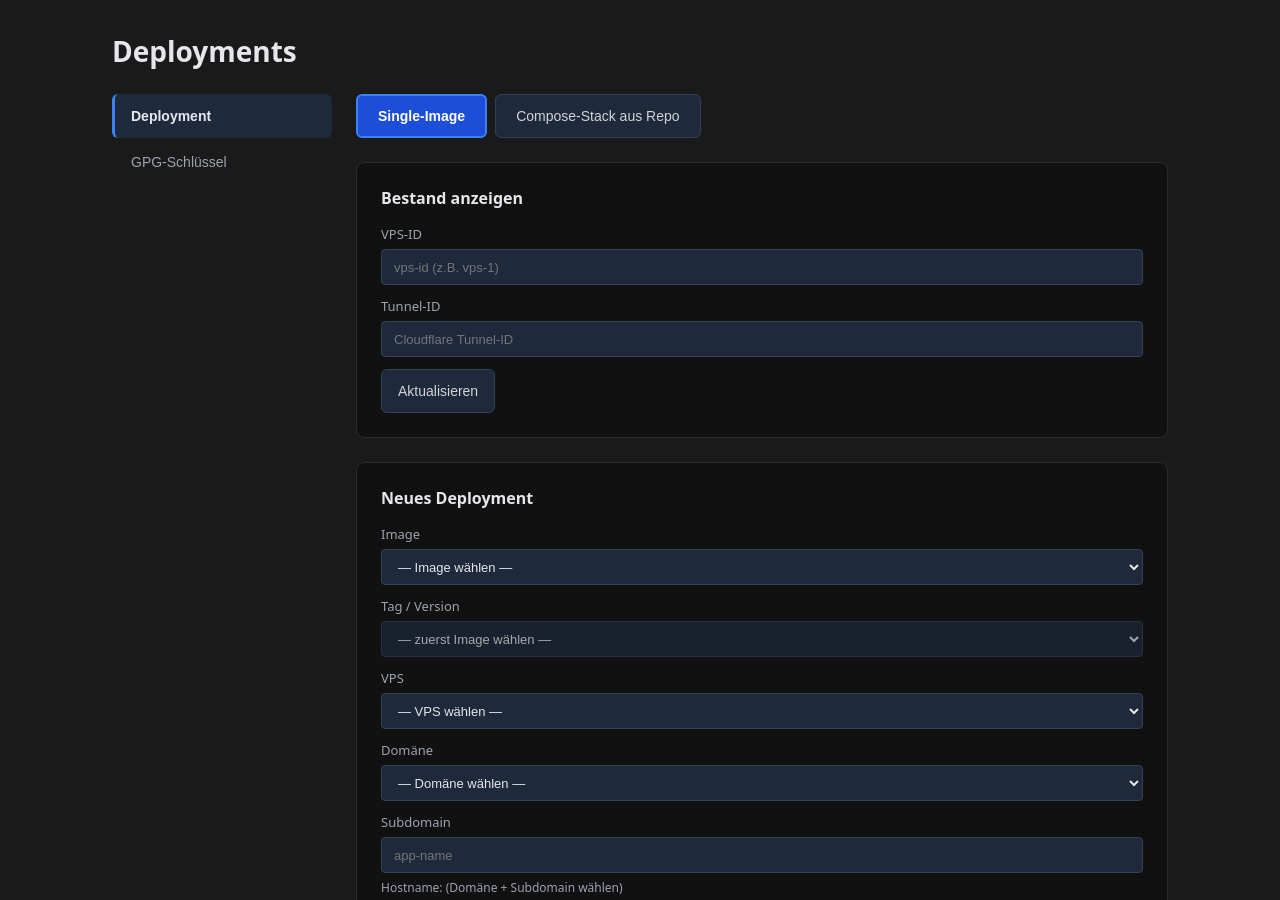
Test case: AC9 — Readiness-Badge: Text je Zustand › shows "✅ VPS bereit" for ready state
Select "vps-1" in the dropdown with id "deploy-vps-select" at (762, 711), box [381,693,1143,729]
Wait 100 ms
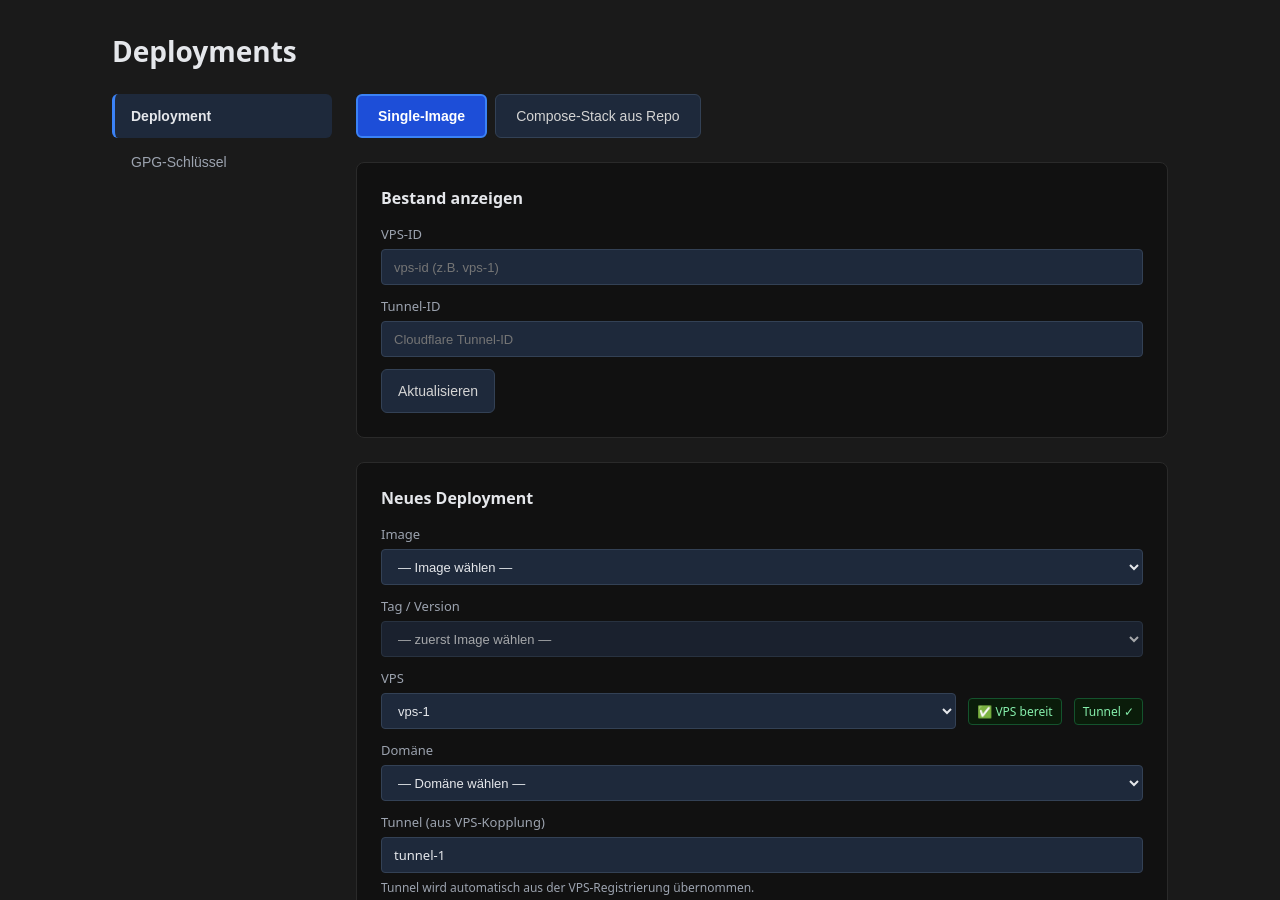
expect the message "✅ VPS bereit" is shown: met, box [968,698,1062,724]
